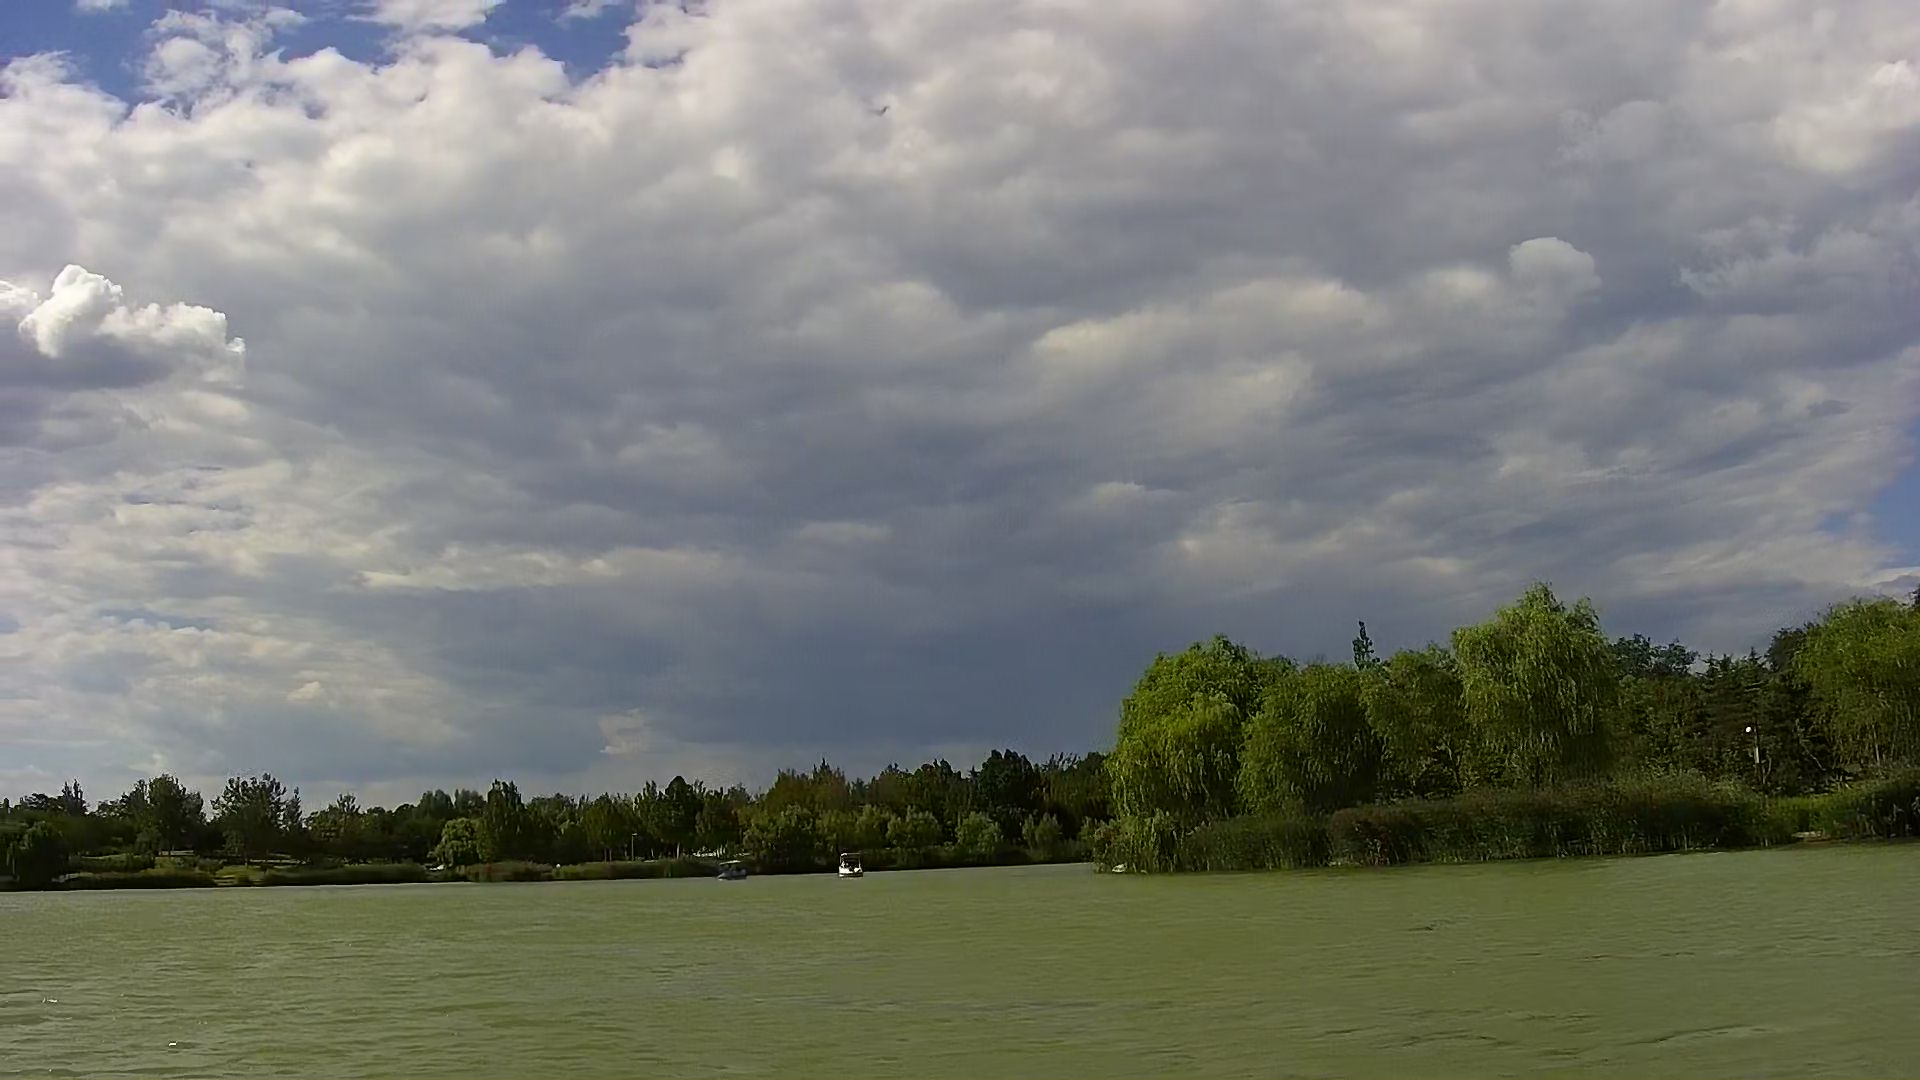boat: (712, 858, 749, 880), (837, 851, 864, 880)
